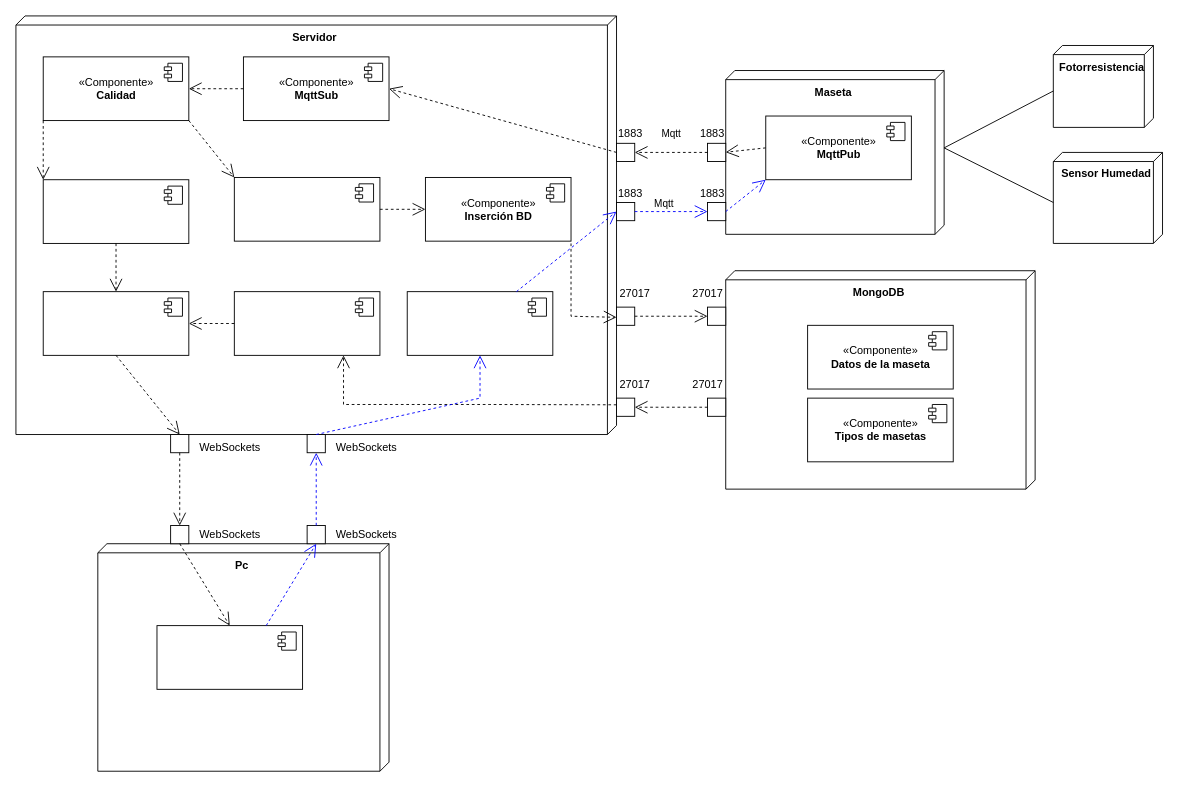
Some shapes in this 1178 by 787 pixel diagram are drawn without their labels. The centre of each missing label's shape, as x and y in pixels:
"«Componente» AppWeb" goes at (229,657).
"«Componente» Consulta BD" goes at (306,323).
"«Componente» Enviar Datos" goes at (115,323).
"«Componente» Enviar Notificacion" goes at (115,211).
"«Componente» Manejador de Almacenaje" goes at (306,209).
"«Componente» Regar" goes at (479,323).
